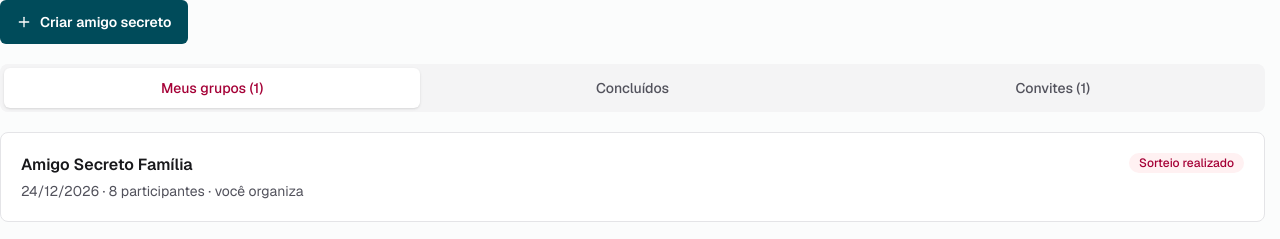
Scenario: Amigo Secreto (telas, mobile-first) › dashboard: abas Meus grupos / Concluídos / Convites e botão + Criar amigo secreto
The image size is (1280, 239).
expect the text "Amigo Secreto Família" is shown: met, box [21, 153, 193, 177]
expect the text "Sorteio realizado" is shown: met, box [1129, 153, 1244, 173]
Click the tab "Convites (1)" at {"x": 1053, "y": 88}, box [845, 68, 1261, 108]
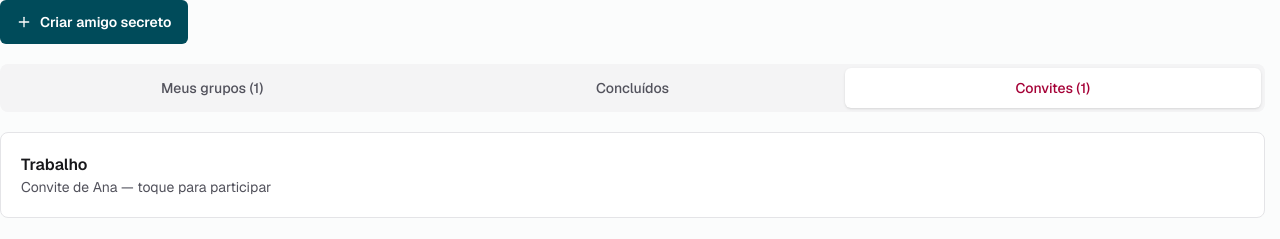
expect the text "Trabalho" is shown: met, box [21, 154, 88, 175]
